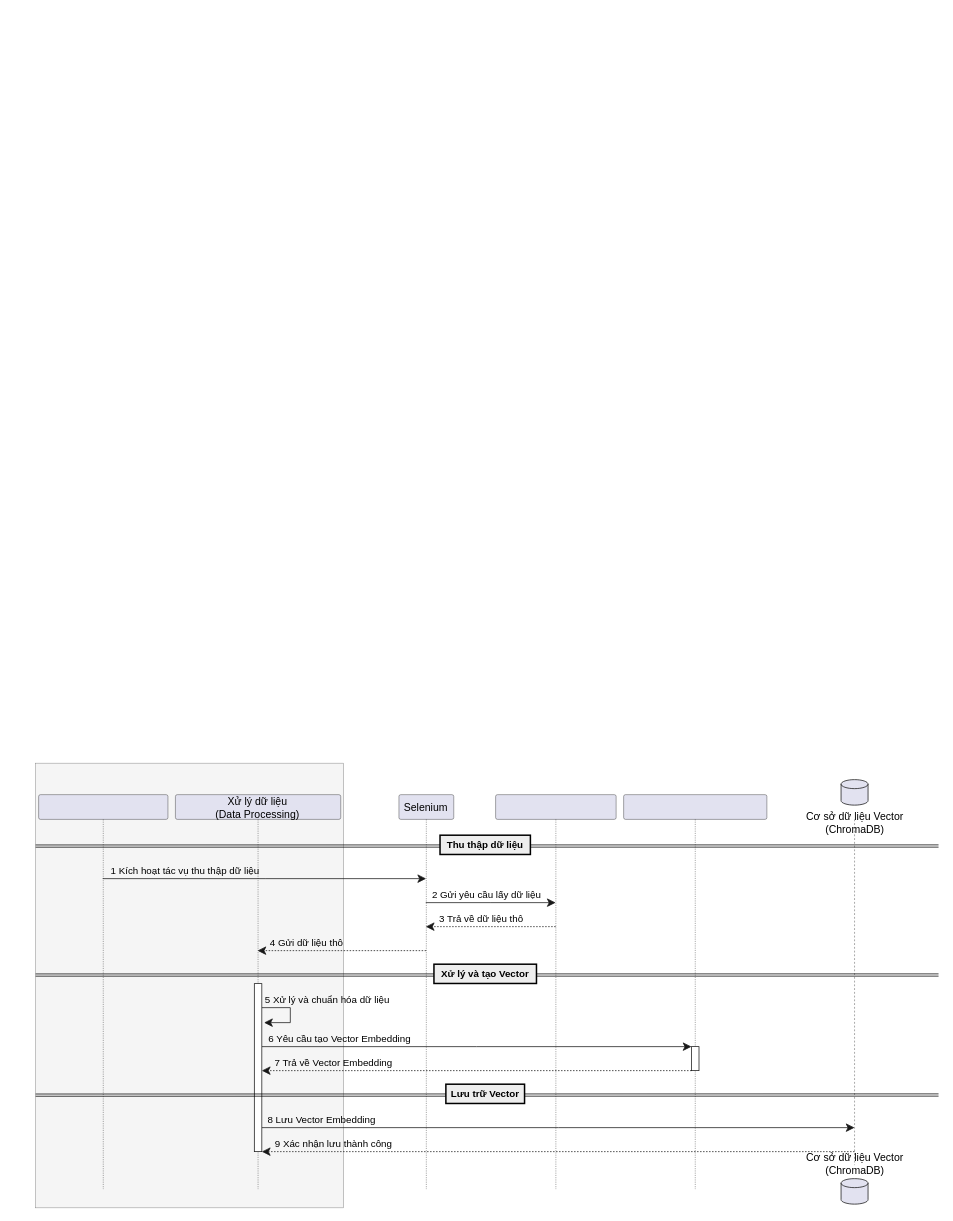
The diagram is 953 pixels wide and 1221 high, and some of its shapes have lost their labels. Here are the shapes that lost their labels. From the top down, the box of each, then its label:
(38, 794, 168, 1189): Bộ lập lịch (Scheduler)
(35, 763, 344, 1208): Crawler Service
(495, 794, 616, 1189): Website HUST
(623, 794, 767, 1189): Mô hình OpenAI Embedding
